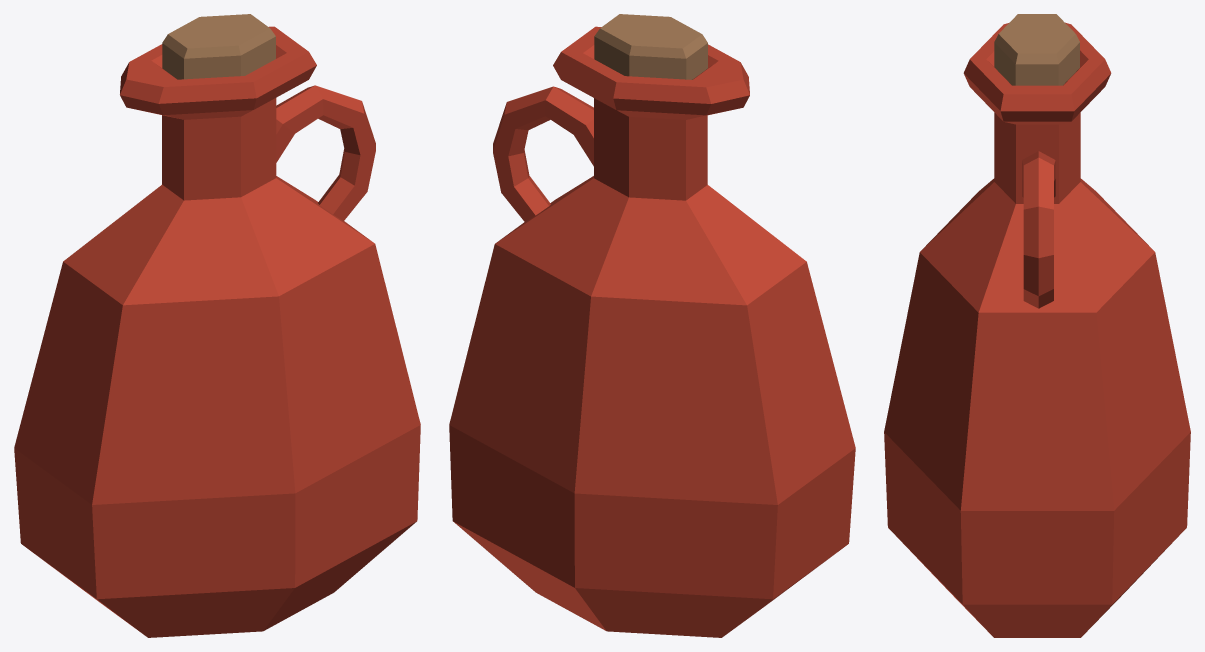
File: Red_Potion_12.fbx
3 views of the same model, side by side, from view 1: azimuth 30°, elevation 25°; view 2: azimuth 150°, elevation 25°; view 3: azimuth 270°, elevation 25° (orthographic).
Visible parts, largest first — view 1: Red_Potion_12; view 2: Red_Potion_12; view 3: Red_Potion_12.
Boxes of the visible parts, x1,y1,x2,y2 form: Red_Potion_12: (14, 14, 420, 637); Red_Potion_12: (449, 14, 855, 637); Red_Potion_12: (884, 14, 1190, 637).
Size of the model in its own units: 23.65 by 39.04 by 19.41.
